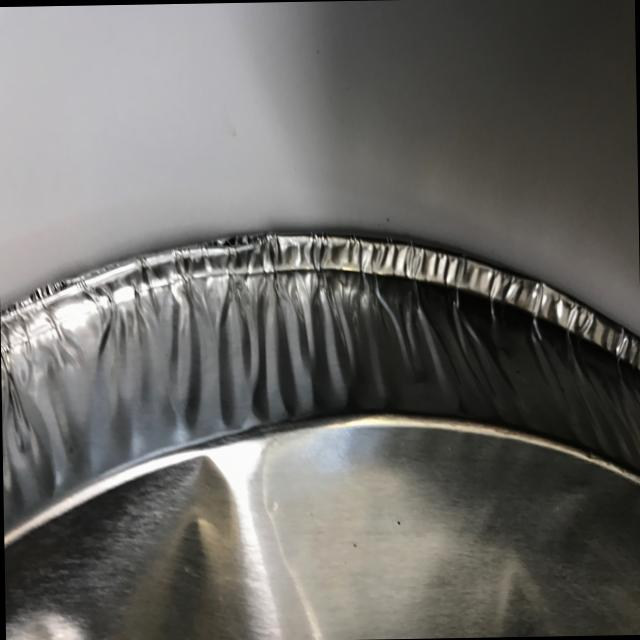Metal: (4, 198, 640, 640)
